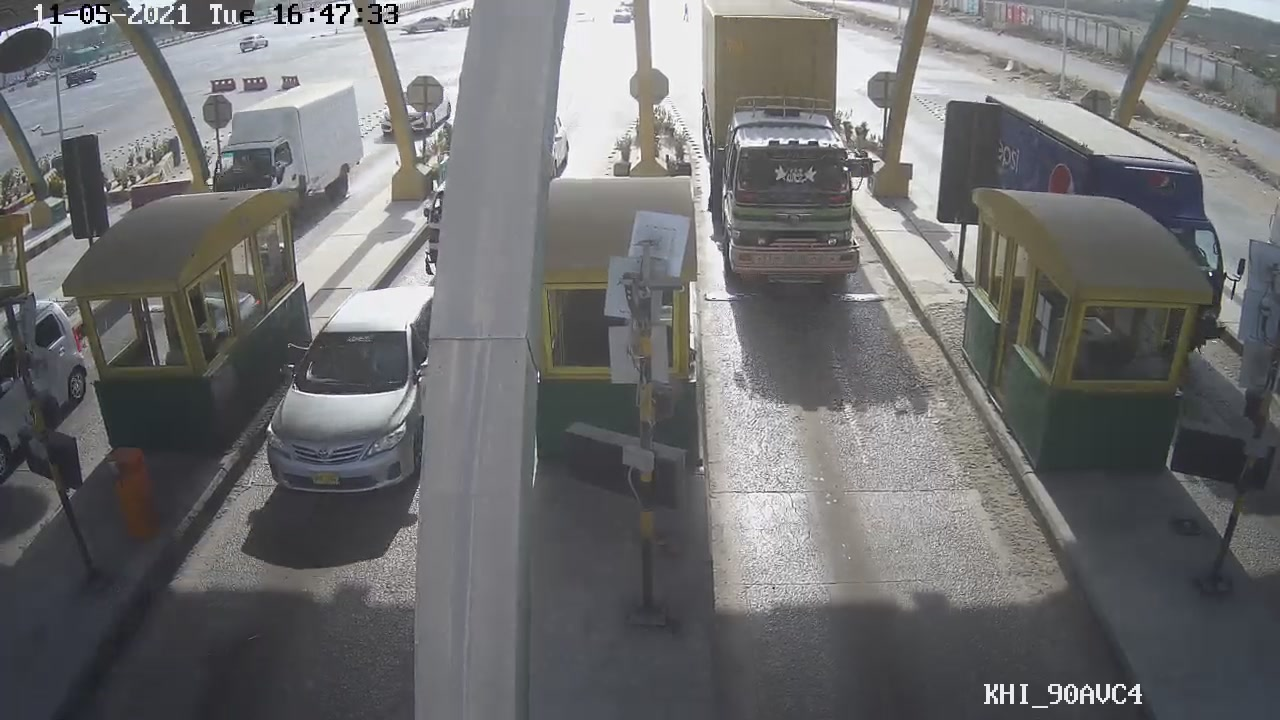F6: (687, 1, 870, 301)
